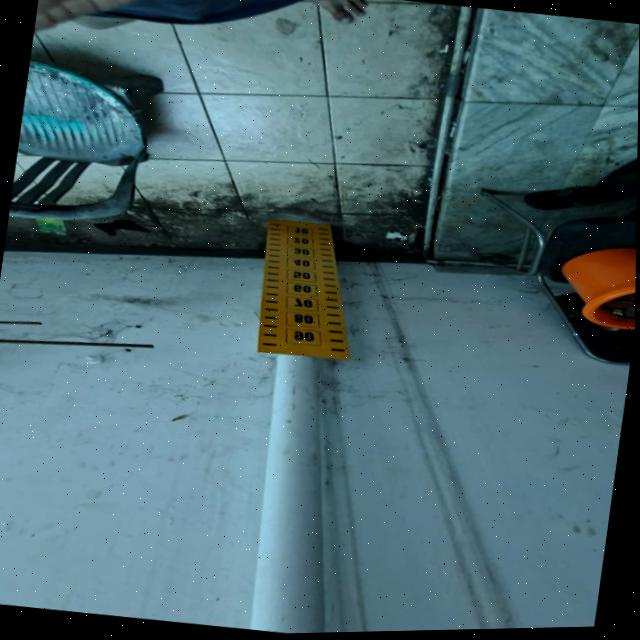water-meter: (225, 203, 379, 372)
